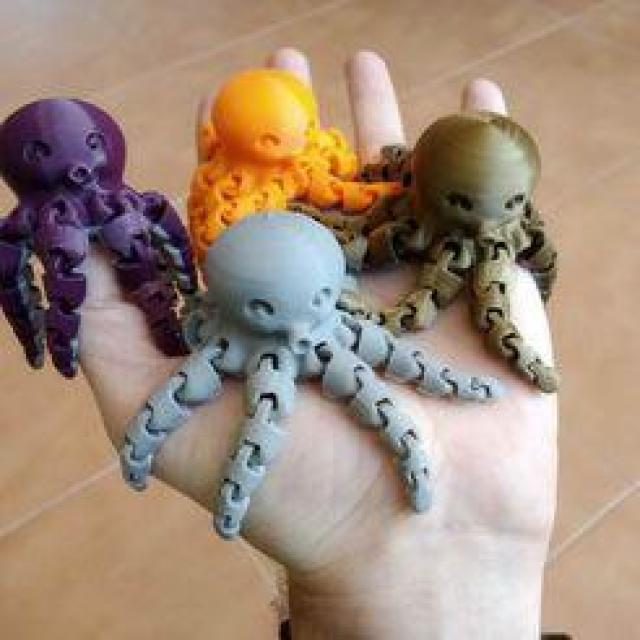Without deffect: (0, 68, 576, 542)
